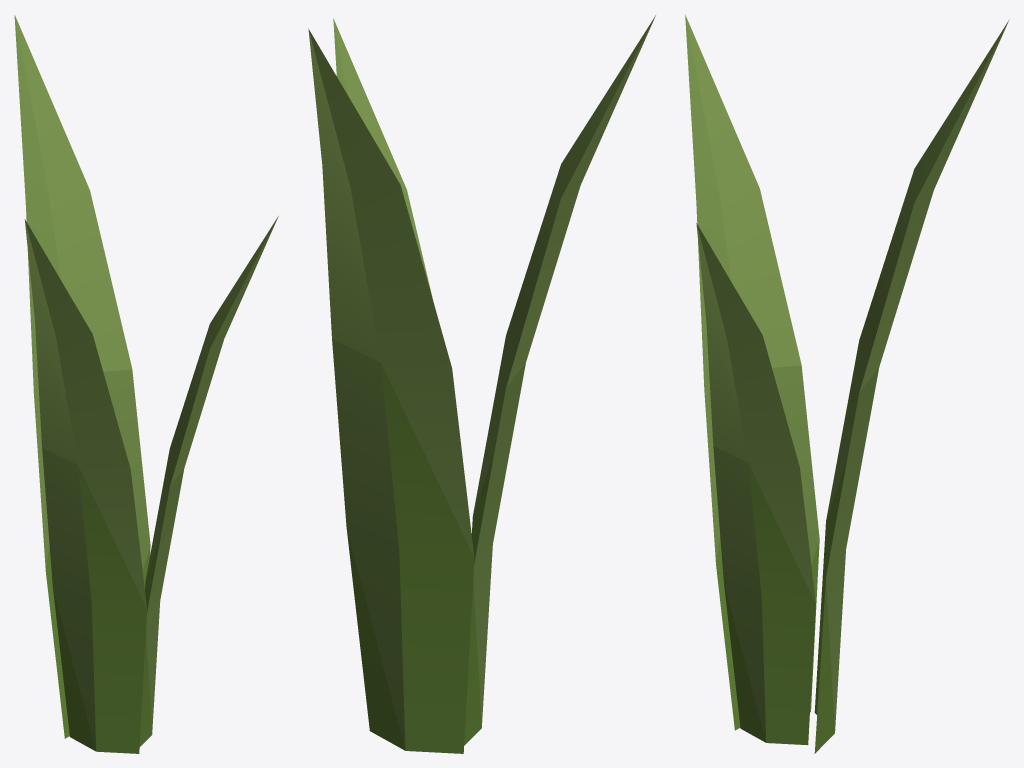
File: itch_kaykit_forest_grass_2_b_singlesided_color1.glb
3 views of the same model, side by side, from view 1: azimuth 30°, elevation 25°; view 2: azimuth 150°, elevation 25°; view 3: azimuth 270°, elevation 25° (orthographic). The views are drawn at different scales.
Visible parts, largest first — view 1: Grass_2_B_Singlesided_Color1; view 2: Grass_2_B_Singlesided_Color1; view 3: Grass_2_B_Singlesided_Color1.
Boxes of the visible parts, x1,y1,x2,y2 form: Grass_2_B_Singlesided_Color1: (14, 15, 278, 753); Grass_2_B_Singlesided_Color1: (308, 15, 655, 753); Grass_2_B_Singlesided_Color1: (685, 14, 1009, 753).
Size of the model in its own units: 0.7734 by 1.85 by 0.7617.
